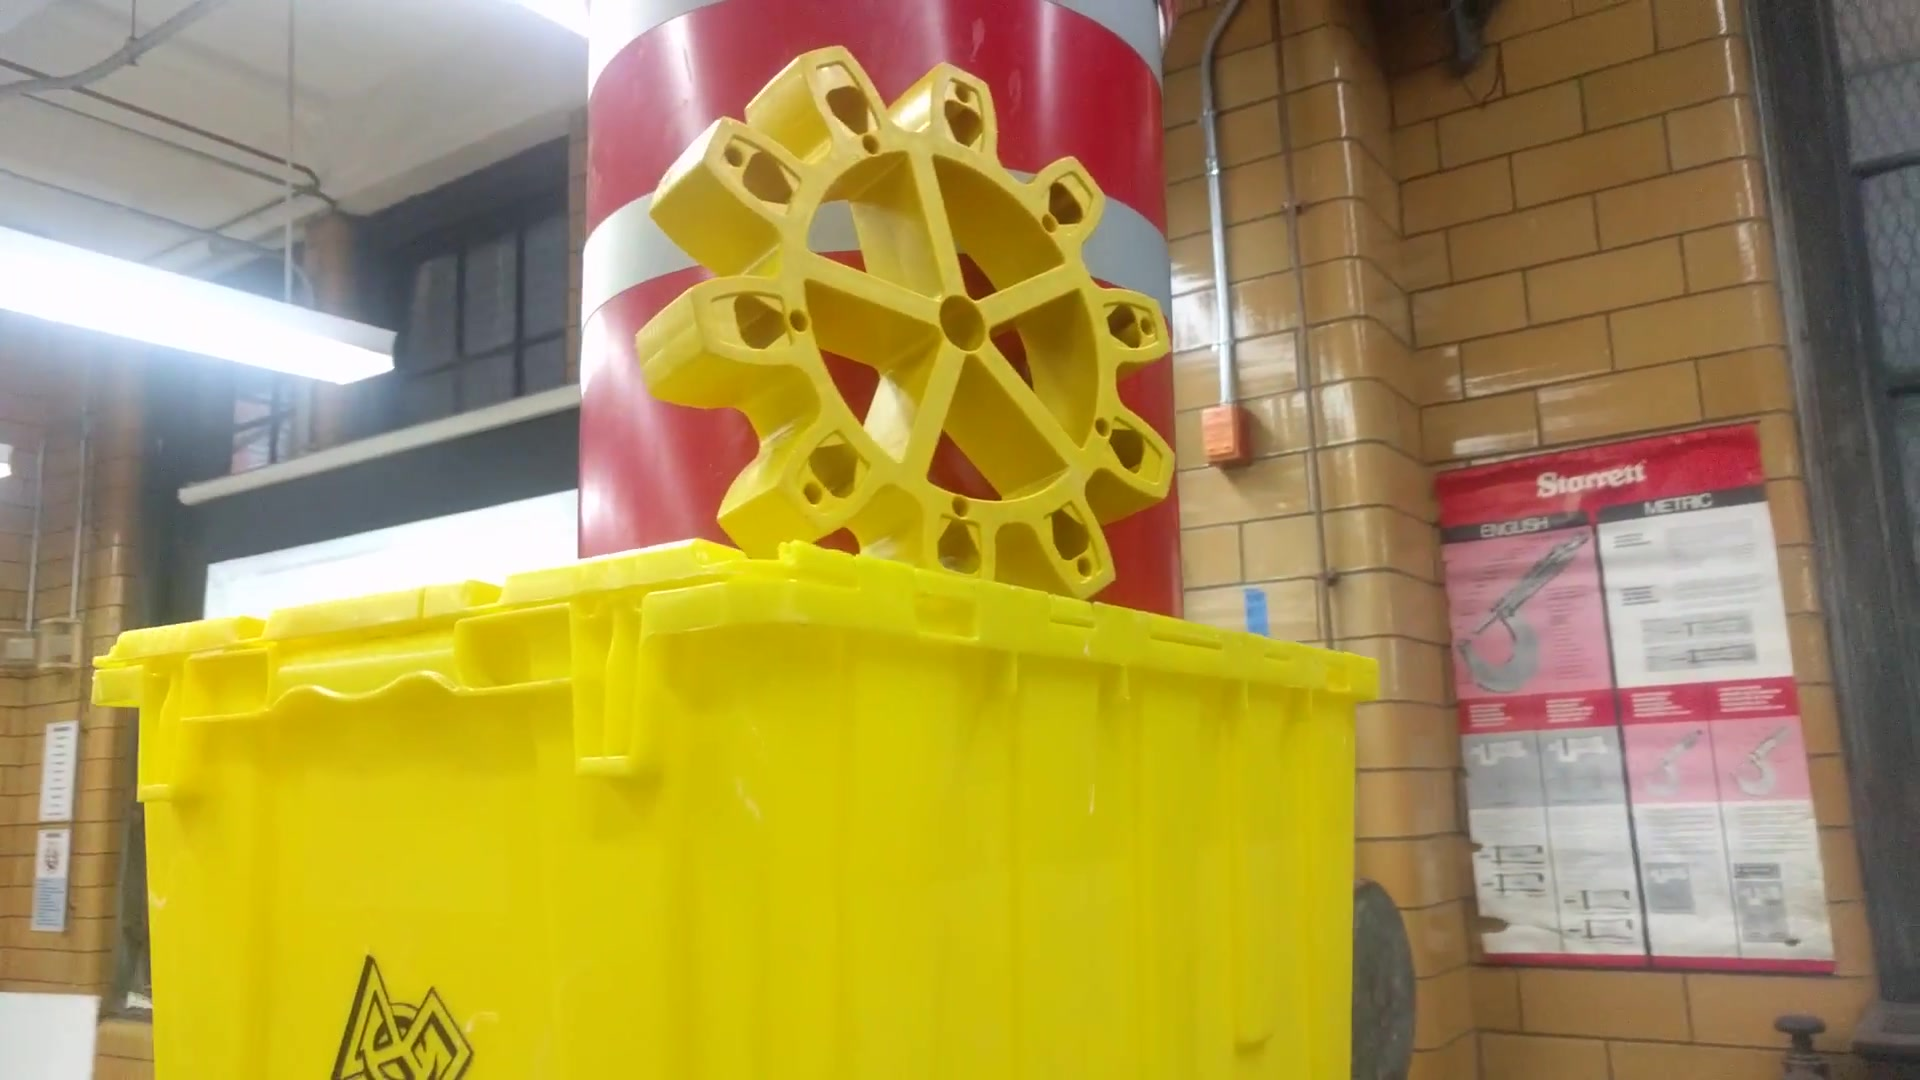gear: (638, 33, 1183, 601)
